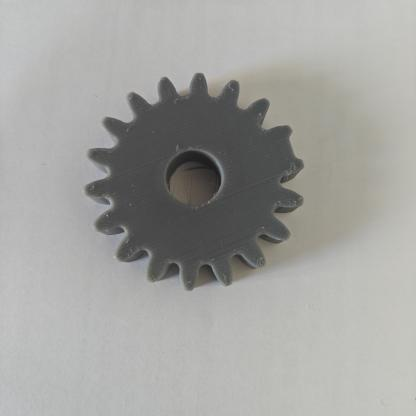defect: (243, 120, 312, 191)
gear: (78, 64, 324, 306)
